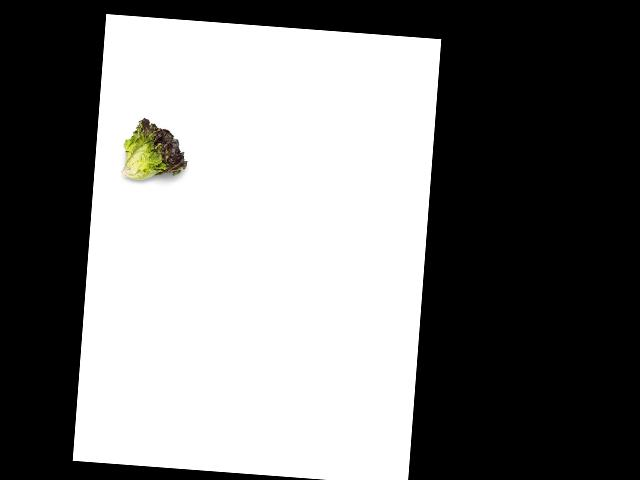lettuce: (118, 117, 194, 184)
